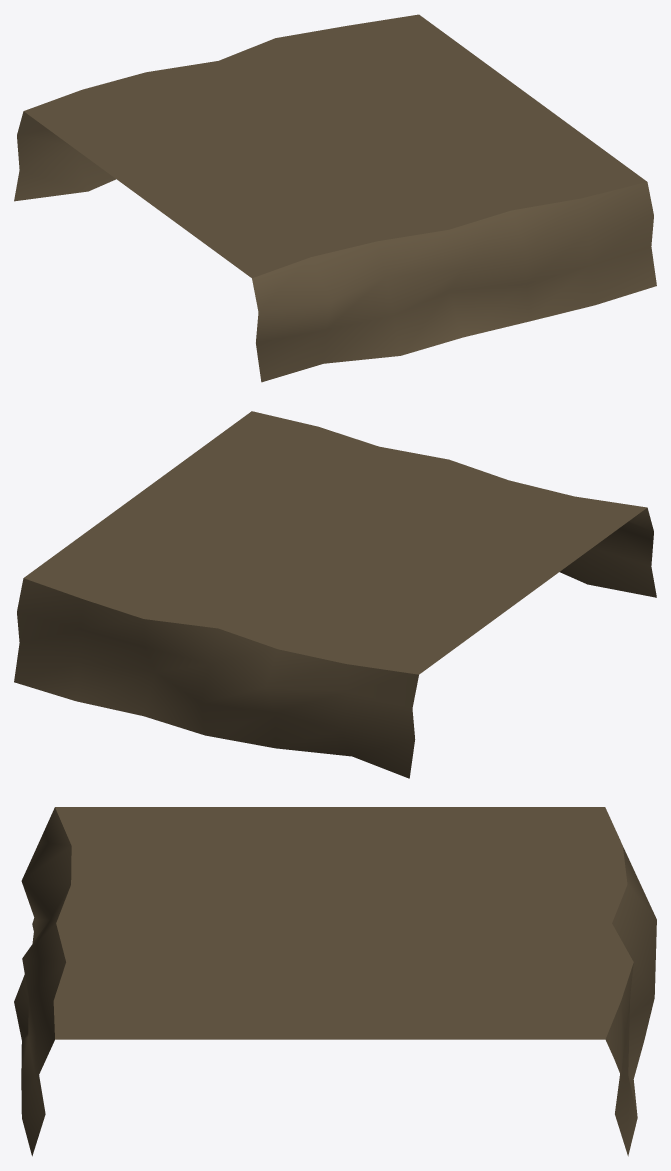
Rendered from floor_edge_double.fbx.
3 views of the same model, one above another, from view 1: azimuth 30°, elevation 25°; view 2: azimuth 150°, elevation 25°; view 3: azimuth 270°, elevation 25° (orthographic). The views are drawn at different scales.
Visible parts, largest first — view 1: cave_edge_double; view 2: cave_edge_double; view 3: cave_edge_double.
Boxes of the visible parts, x1,y1,x2,y2 form: cave_edge_double: (14, 14, 656, 382); cave_edge_double: (14, 411, 656, 778); cave_edge_double: (14, 807, 656, 1156).
Size of the model in its own units: 675 by 159 by 789.
